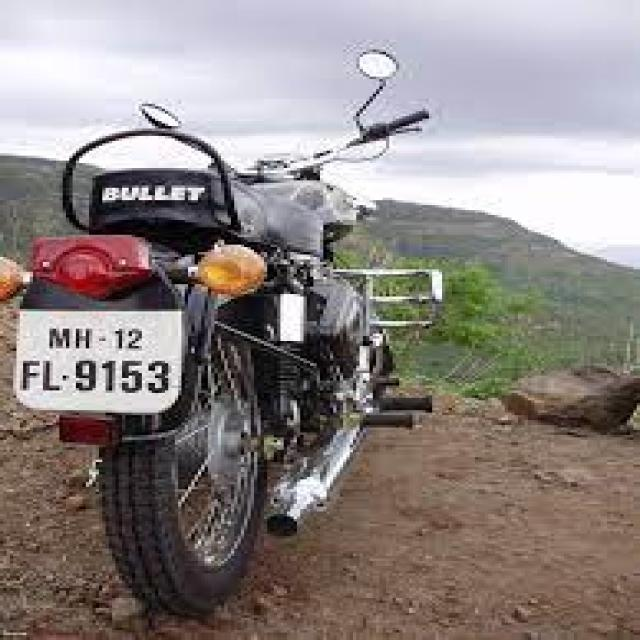license_plate: (17, 310, 171, 400)
